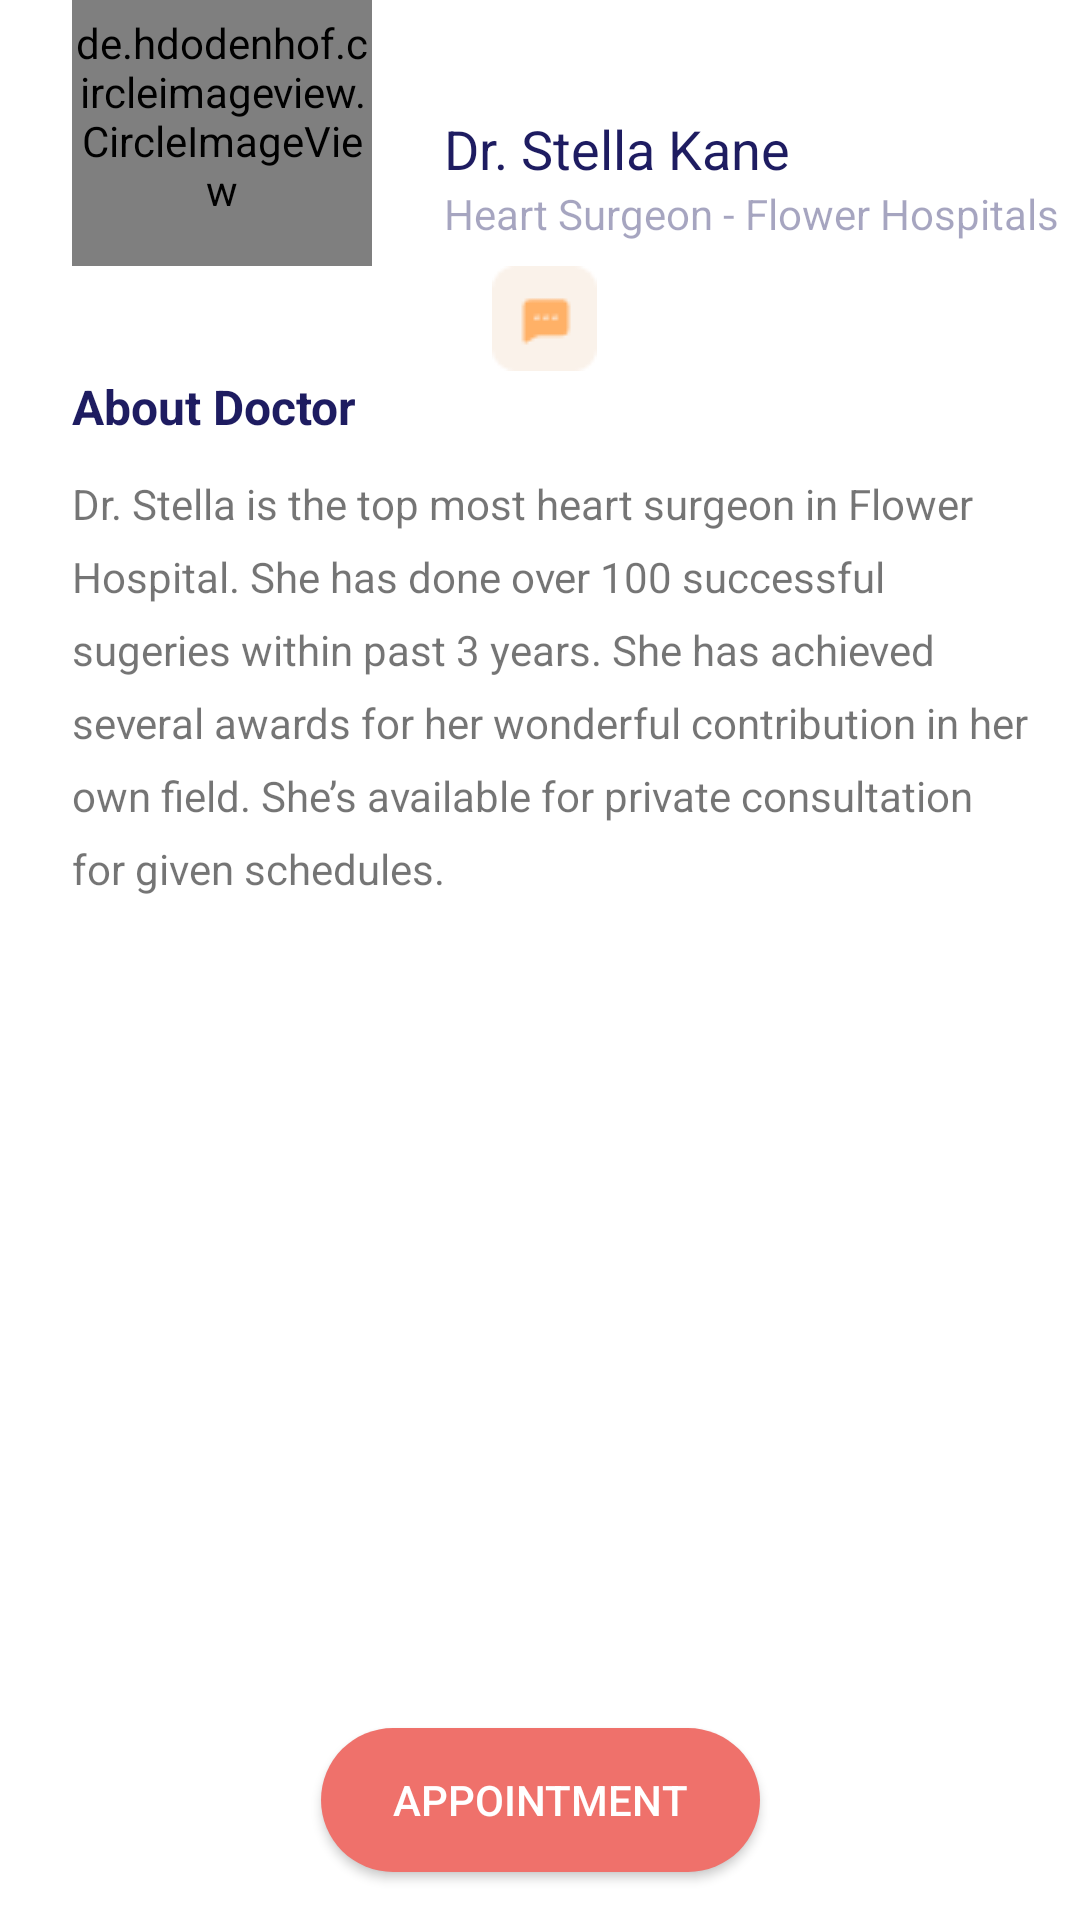

Icon bounding boxes for this 1080*1920 phone screenshot, format box(x1, y1, x2, y2):
message: box(521, 298, 571, 345)
